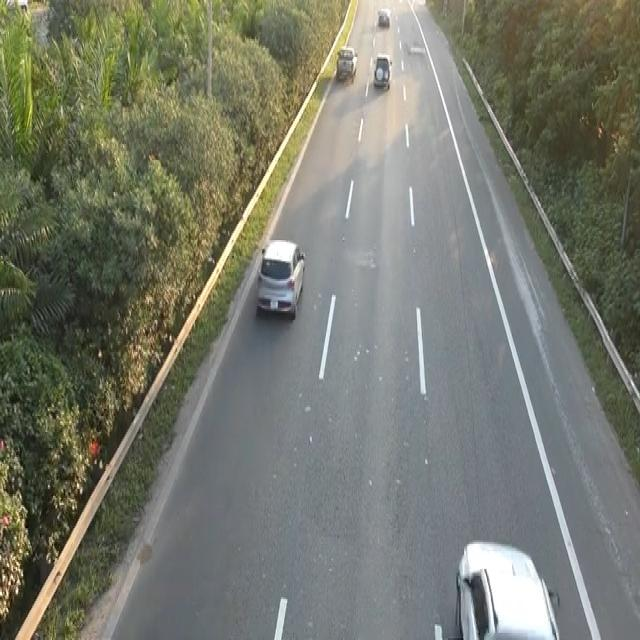bus: (452, 537, 561, 636)
lorry: (253, 235, 309, 327)
